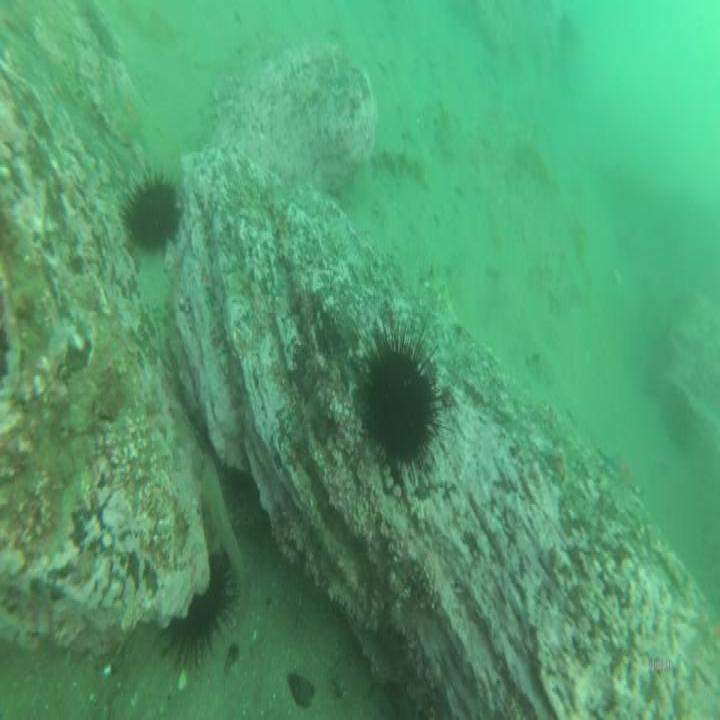echinus: (356, 320, 442, 473), (169, 551, 235, 661), (120, 167, 183, 261)
